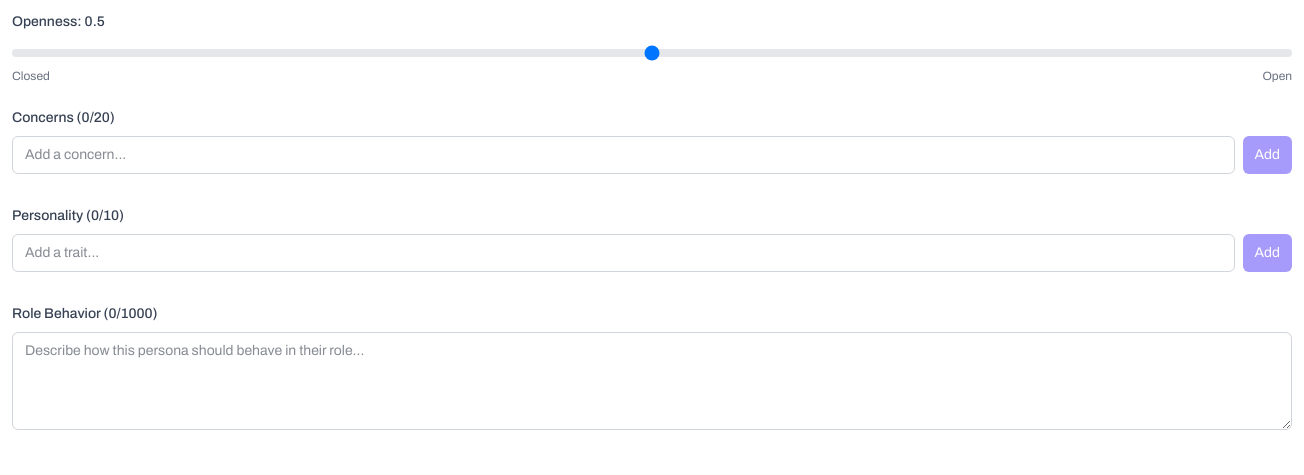
Test: PersonaCharacteristicsEditor › concerns › adds multiple distinct concerns sequentially (controlled harness)
Type "One" into the field with test id "concern-input" at (623, 155), box [12,136,1235,174]
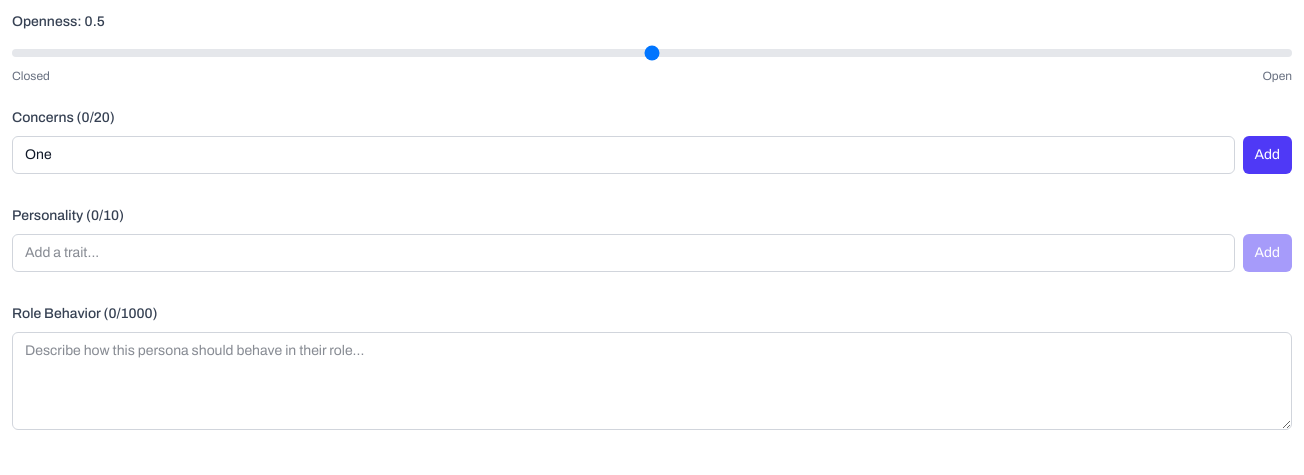
Click the button with test id "add-concern-button" at (1267, 155), box [1243,136,1292,174]
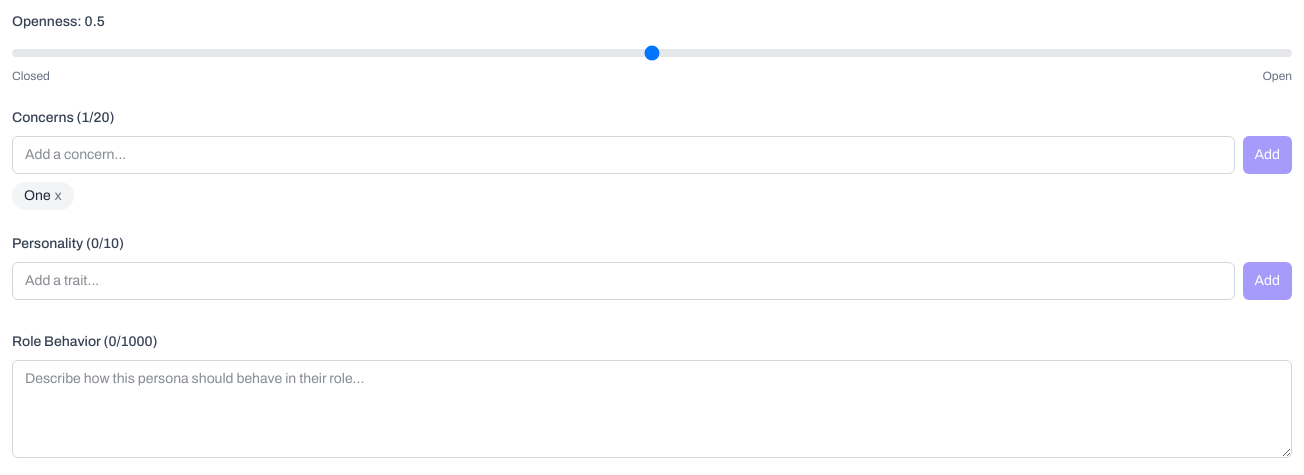
Type "Two" into the field with test id "concern-input" at (623, 155), box [12,136,1235,174]
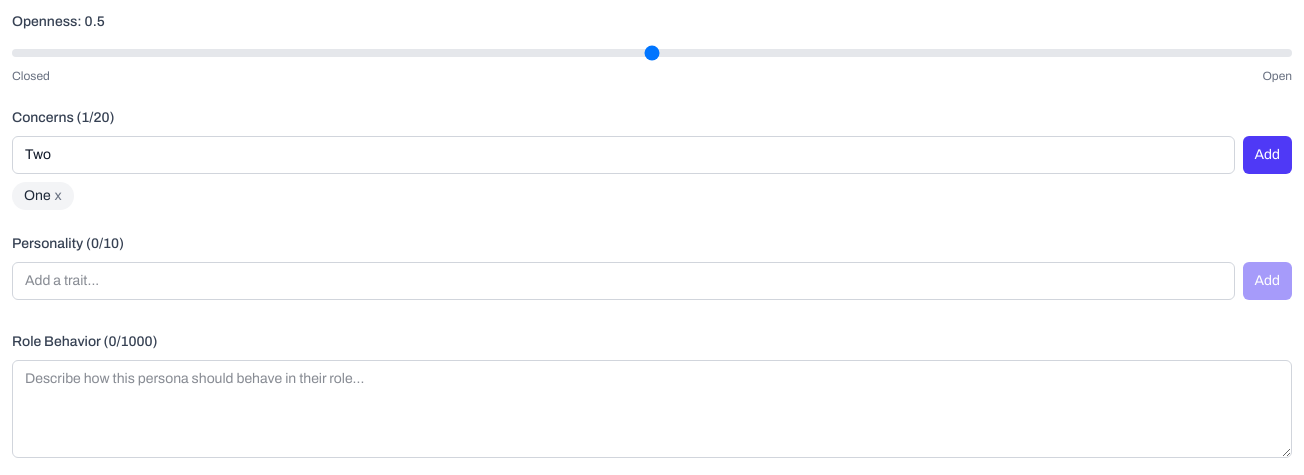
Click the button with test id "add-concern-button" at (1267, 155), box [1243,136,1292,174]
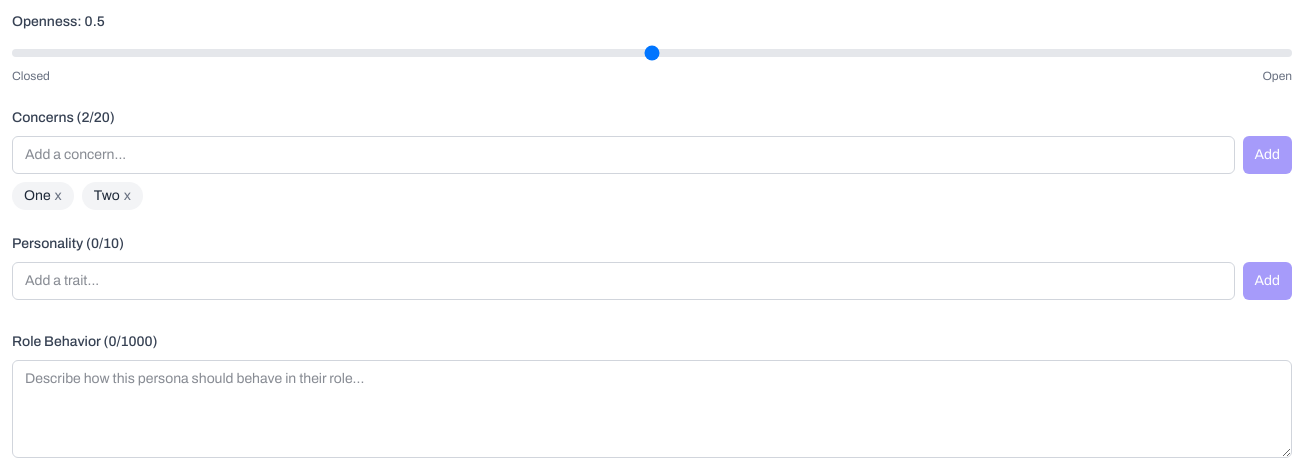
Now the text "Concerns (2/20)" is shown, box [12,110,115,125]
